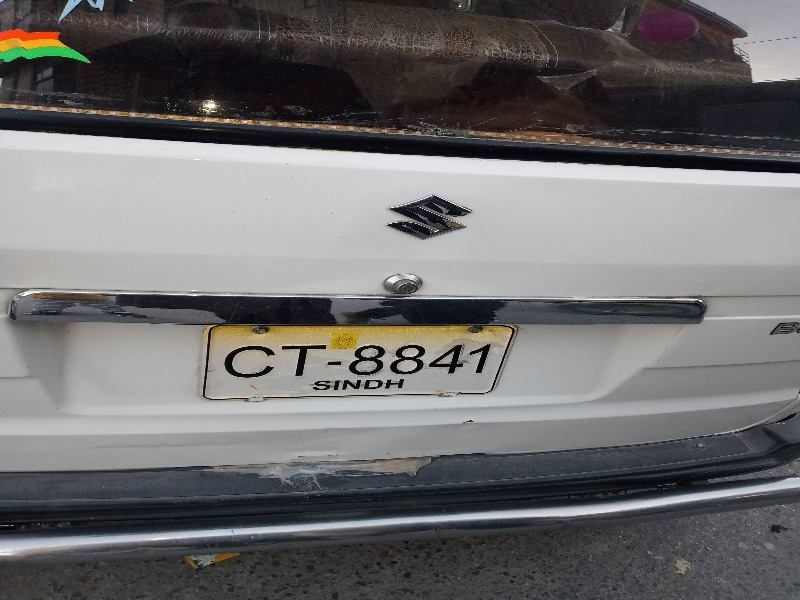License Plate: (196, 320, 515, 400)
